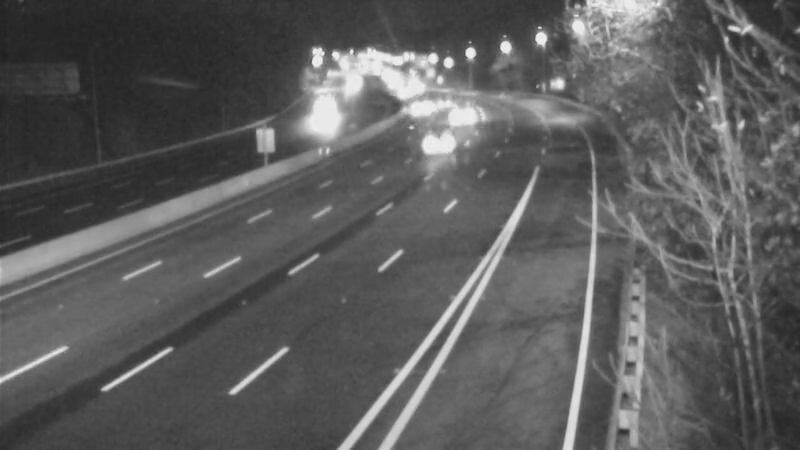vehicle: (416, 78, 466, 128), (396, 83, 446, 133), (438, 88, 488, 138), (409, 118, 459, 168), (299, 89, 349, 139)
